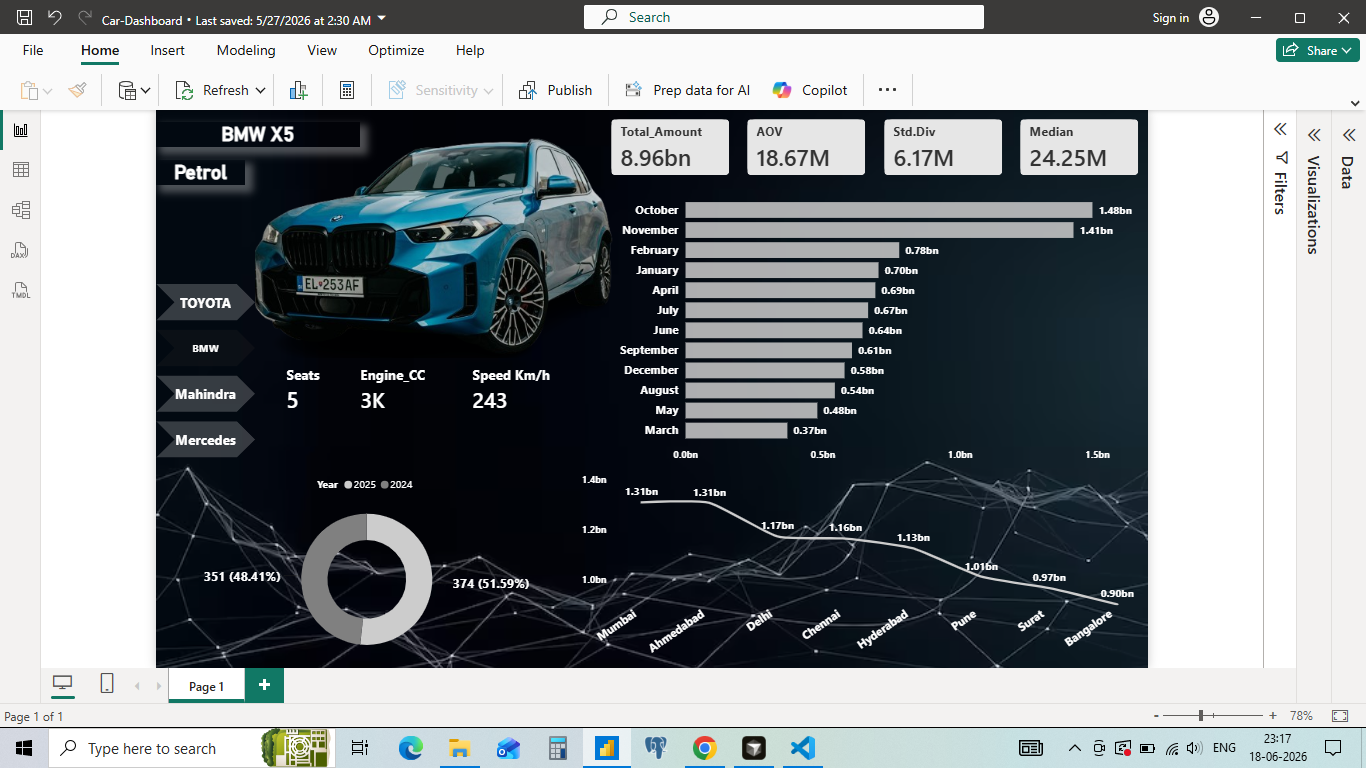

What the dashboard file says about the page in this screenshot:
{"tool":"powerbi","page":{"name":"Page 1","canvas":[1280,720],"ordinal":0},"visuals":[{"type":"cardVisual","title":" Total Amt Card","fields":{"Data":["Sum(car_sales_dashboard_dataset.Total_Amount_INR)"]},"box":[576,0,176,96],"z":0,"group":"g2"},{"type":"textbox","title":"Mercedes C-Class","box":[0,16,270.2,32],"z":0,"group":"g5"},{"type":"clusteredBarChart","title":" Total Month column chrt","fields":{"Category":["car_sales_dashboard_dataset.Month"],"Y":["Sum(car_sales_dashboard_dataset.Total_Amount_INR)"]},"box":[592,96,688,368],"z":0,"group":"g3"},{"type":"group","id":"g1","title":"S/E/S","box":[144,320,400,80],"z":0,"group":"g4"},{"type":"cardVisual","title":"SeatsCard","fields":{"Data":["Min(car_sales_dashboard_dataset.Seats)"]},"box":[144,320,96,80],"z":0,"group":"g1"},{"type":"group","id":"g2","title":"Kpi cards","box":[576,0,704,96],"z":1000,"group":"g4"},{"type":"cardVisual","title":"aov Card","fields":{"Data":["Avg(car_sales_dashboard_dataset.Total_Amount_INR)"]},"box":[752,0,176,96],"z":1000,"group":"g2"},{"type":"textbox","title":"Petrol","box":[0,64,118.2,32],"z":1000,"group":"g5"},{"type":"cardVisual","title":"Engine cc Card","fields":{"Data":["Min(car_sales_dashboard_dataset.Engine_CC)"]},"box":[240,320,144,80],"z":1000,"group":"g1"},{"type":"donutChart","title":"Year vizual","fields":{"Category":["car_sales_dashboard_dataset.Year"],"Y":["Sum(car_sales_dashboard_dataset.Quantity)"]},"box":[0,464,544,256],"z":1000,"group":"g3"},{"type":"image","title":"Image mercedes","box":[128,0,464,320],"z":2000,"group":"g5"},{"type":"cardVisual","title":"Std.div Card","fields":{"Data":["Sum(car_sales_dashboard_dataset.Total_Amount_INR)"]},"box":[928,0,176,96],"z":2000,"group":"g2"},{"type":"group","id":"g3","title":"Charts vizuals","box":[0,96,1280,624],"z":2000,"group":"g4"},{"type":"cardVisual","title":"Speed km Card","fields":{"Data":["Min(car_sales_dashboard_dataset.Top_Speed_KMH)"]},"box":[384,320,160,80],"z":2000,"group":"g1"},{"type":"lineChart","title":" Total_Amount City line chrt","fields":{"Category":["car_sales_dashboard_dataset.City"],"Y":["Sum(car_sales_dashboard_dataset.Total_Amount_INR)"]},"box":[544,464,736,256],"z":2000,"group":"g3"},{"type":"cardVisual","title":"Median Card","fields":{"Data":["Median(car_sales_dashboard_dataset.Total_Amount_INR)"]},"box":[1104,0,176,96],"z":3000,"group":"g2"},{"type":"group","id":"g4","title":"Marcedes -Kpi & vizual","box":[0,0,1280,720],"z":6000},{"type":"group","id":"g5","title":"Mercedes image","box":[0,0,592,320],"z":7000},{"type":"bookmarkNavigator","box":[0,224,128,224],"z":8000}]}

Visuals, with their boxes on the page's 1280x720 design canvas (x1, y1, x2, y2). These are canvas units, not pixel positions in the 1366x768 screenshot, which may show the page scaled, cropped or inside an application window:
" Total Amt Card" cardVisual: bbox=(576, 0, 752, 96)
"Mercedes C-Class" textbox: bbox=(0, 16, 270, 48)
" Total Month column chrt" clusteredBarChart: bbox=(592, 96, 1280, 464)
"S/E/S" group: bbox=(144, 320, 544, 400)
"SeatsCard" cardVisual: bbox=(144, 320, 240, 400)
"Kpi cards" group: bbox=(576, 0, 1280, 96)
"aov Card" cardVisual: bbox=(752, 0, 928, 96)
"Petrol" textbox: bbox=(0, 64, 118, 96)
"Engine cc Card" cardVisual: bbox=(240, 320, 384, 400)
"Year vizual" donutChart: bbox=(0, 464, 544, 720)
"Image mercedes" image: bbox=(128, 0, 592, 320)
"Std.div Card" cardVisual: bbox=(928, 0, 1104, 96)
"Charts vizuals" group: bbox=(0, 96, 1280, 720)
"Speed km Card" cardVisual: bbox=(384, 320, 544, 400)
" Total_Amount City line chrt" lineChart: bbox=(544, 464, 1280, 720)
"Median Card" cardVisual: bbox=(1104, 0, 1280, 96)
"Marcedes -Kpi & vizual" group: bbox=(0, 0, 1280, 720)
"Mercedes image" group: bbox=(0, 0, 592, 320)
bookmarkNavigator: bbox=(0, 224, 128, 448)
